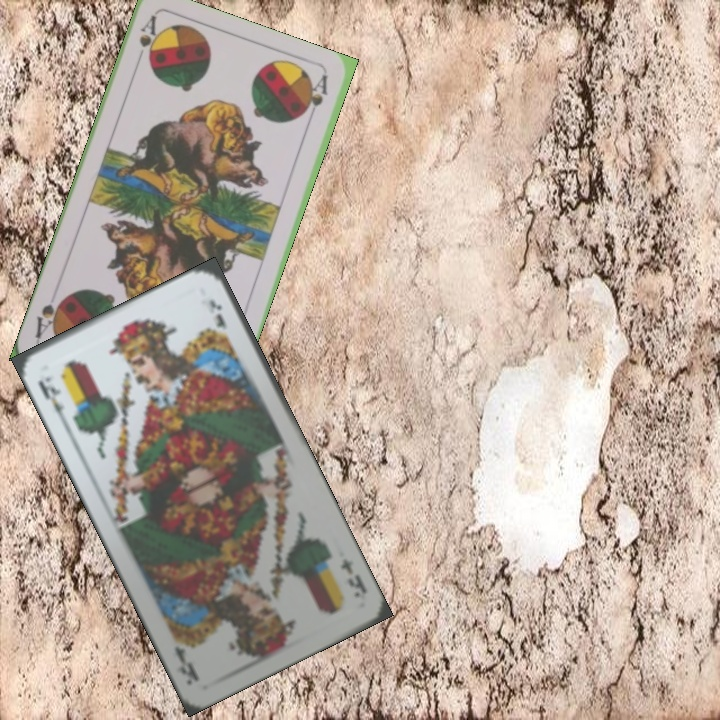EK: (34, 372, 69, 426), (336, 554, 369, 601)
SA: (131, 12, 163, 70)
